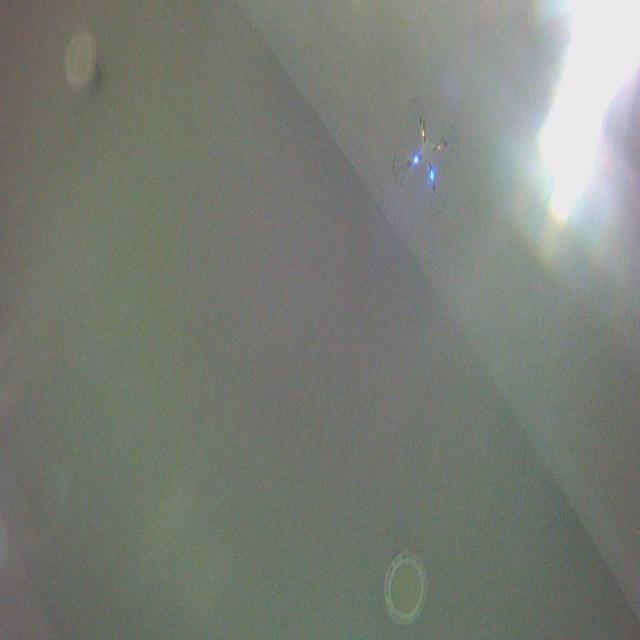drone: (390, 94, 462, 220)
